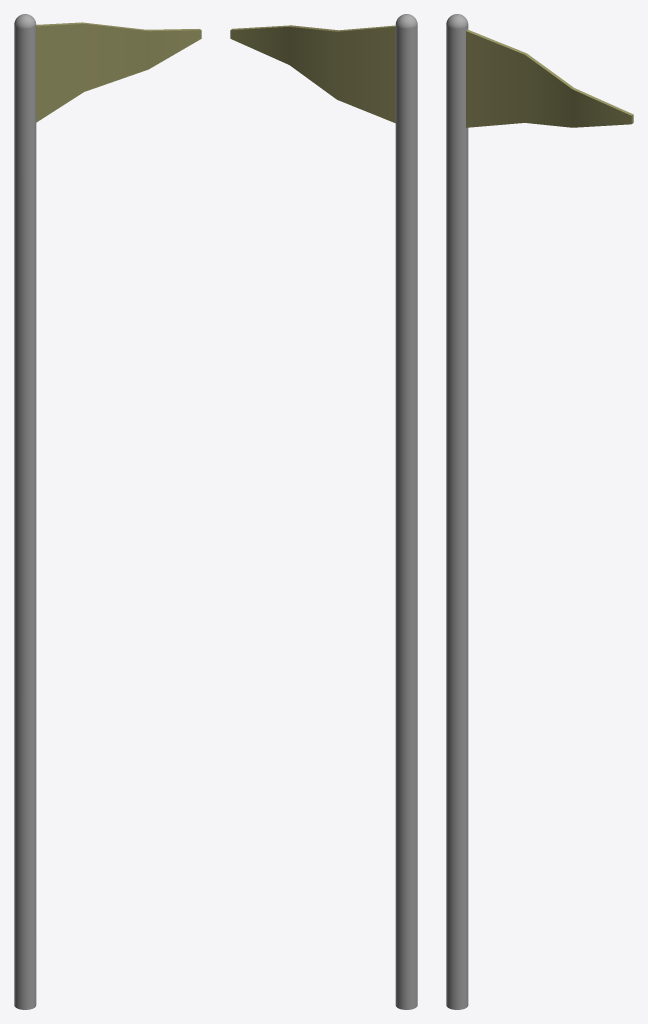
Rendered from ObjFlag.fbx.
3 renders of one model, left to right at view 1: azimuth 30°, elevation 25°; view 2: azimuth 150°, elevation 25°; view 3: azimuth 330°, elevation 25°, orthographic.
Visible parts, largest first — view 1: pCube2; view 2: pCube2; view 3: pCube2.
Boxes of the visible parts, x1,y1,x2,y2 form: pCube2: (14, 14, 201, 1009); pCube2: (230, 14, 417, 1009); pCube2: (446, 14, 633, 1009).
Size of the model in its own units: 345 by 1763 by 38.07.
